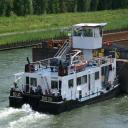tugboat: (9, 23, 123, 118)
